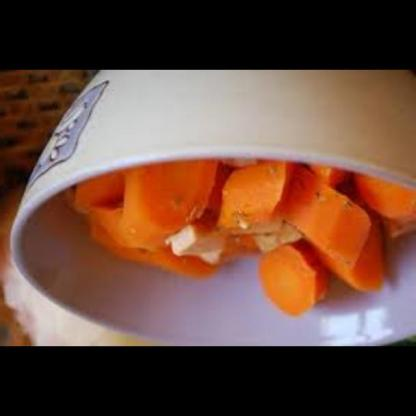carrot: (56, 153, 412, 312)
